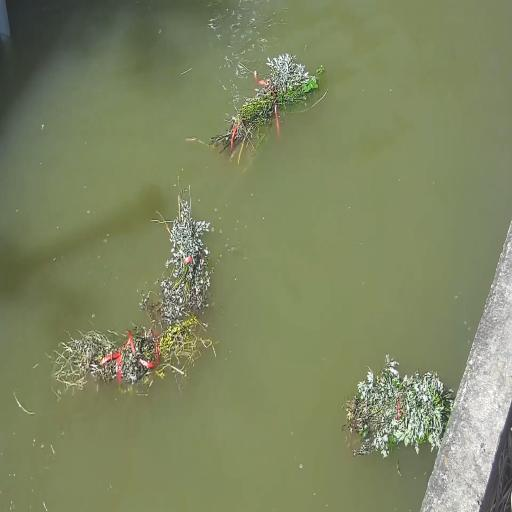twig: (200, 52, 319, 162), (54, 316, 206, 396), (345, 352, 452, 462), (151, 180, 214, 320)
